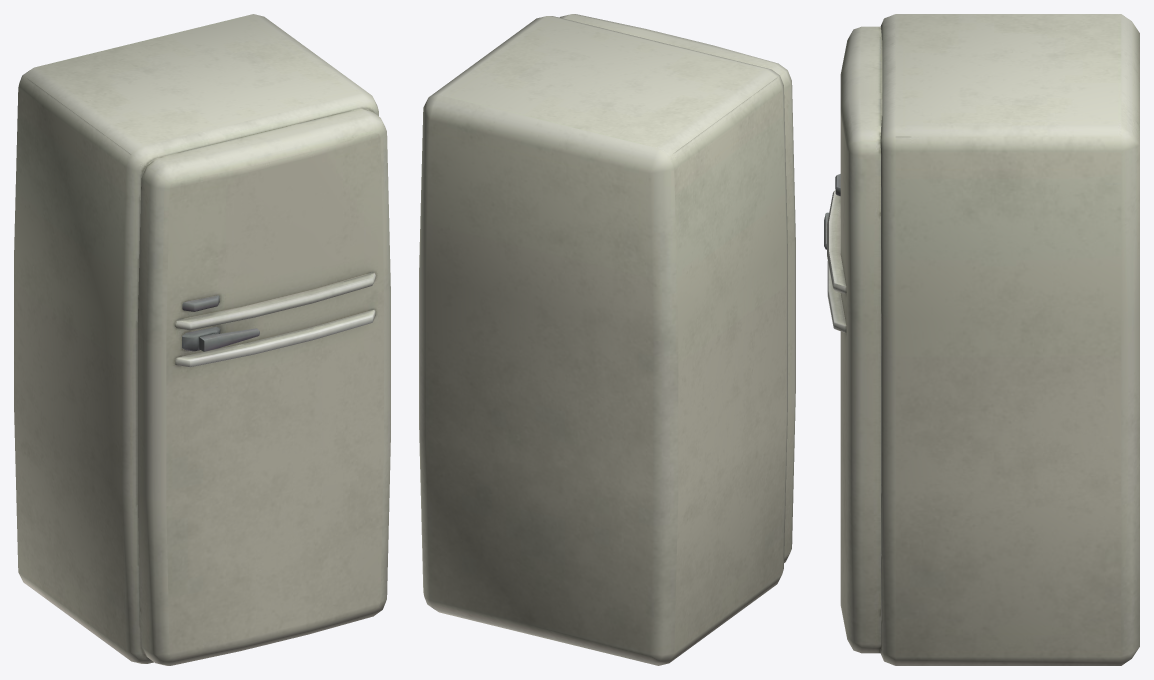
3 views of the same model, side by side, from view 1: azimuth 30°, elevation 25°; view 2: azimuth 150°, elevation 25°; view 3: azimuth 270°, elevation 25° (orthographic). The views are drawn at different scales.
Visible parts, largest first — view 1: fridge_low_Cube.002; view 2: fridge_low_Cube.002; view 3: fridge_low_Cube.002.
Part boxes in pixels (x1,y1,x2,y2): fridge_low_Cube.002: (14,14,390,665); fridge_low_Cube.002: (419,14,795,665); fridge_low_Cube.002: (824,14,1139,665).
Bounding box in the file's own units: 1.05 × 2 × 1.06.
2 materials, 2 textured.
